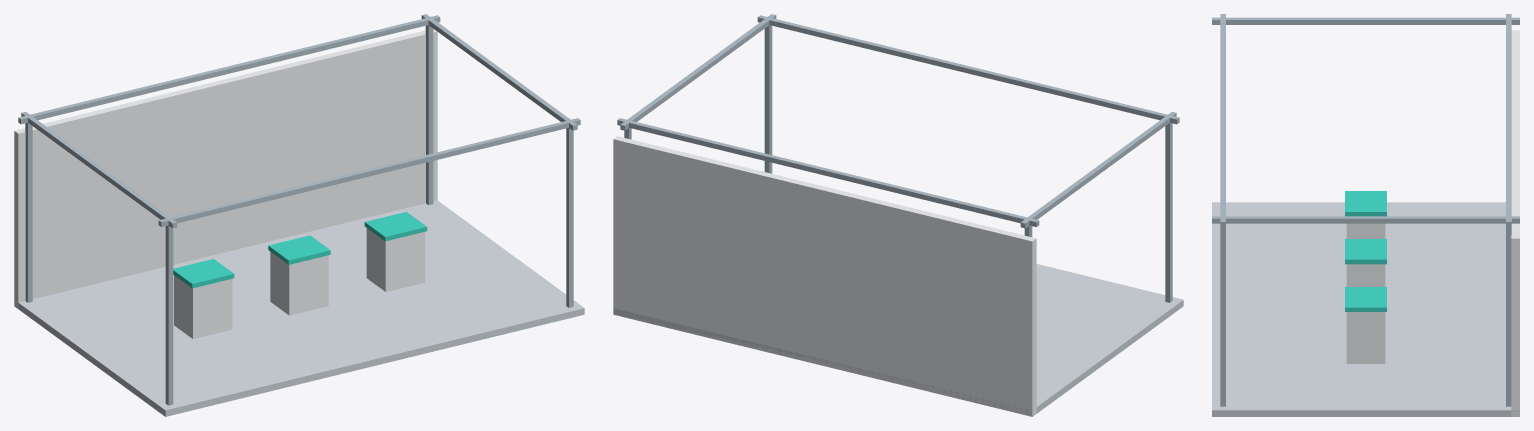
3 views of the same model, side by side, from view 1: azimuth 30°, elevation 25°; view 2: azimuth 150°, elevation 25°; view 3: azimuth 270°, elevation 25° (orthographic).
Visible parts, largest first — view 1: Exhibition Booth Concept; view 2: Exhibition Booth Concept; view 3: Exhibition Booth Concept.
Part boxes in pixels (x1,y1,x2,y2): Exhibition Booth Concept: (14, 14, 584, 416); Exhibition Booth Concept: (613, 14, 1183, 416); Exhibition Booth Concept: (1212, 14, 1519, 416).
Size of the model in its own units: 8 by 3.49 by 5.
